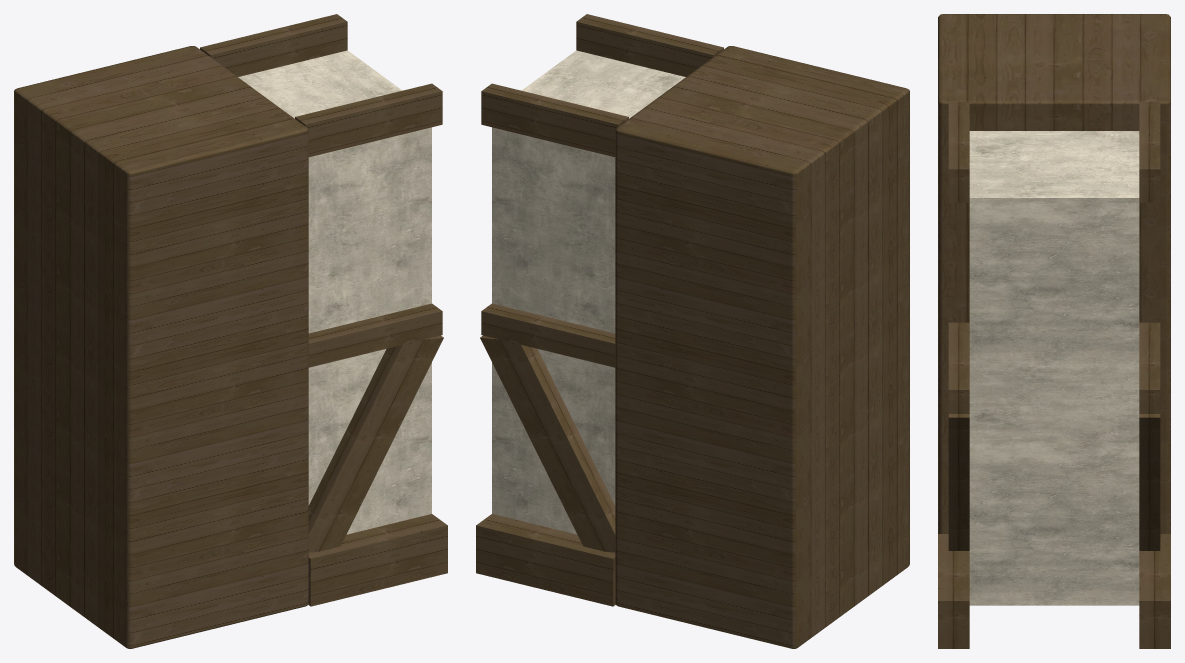
File: timber_frame_wall.glb
3 renders of one model, left to right at view 1: azimuth 30°, elevation 25°; view 2: azimuth 150°, elevation 25°; view 3: azimuth 270°, elevation 25°, orthographic.
Parts seen in each view (by area): view 1: prop (×2); view 2: prop (×2); view 3: prop (×2).
Boxes of the visible parts, x1,y1,x2,y2 form: prop (×2): [14, 14, 447, 648]; prop (×2): [476, 14, 909, 648]; prop (×2): [938, 14, 1170, 648].
Size of the model in its own units: 0.7032 by 1 by 0.44.
Materials: 3 (3 with a texture image).
